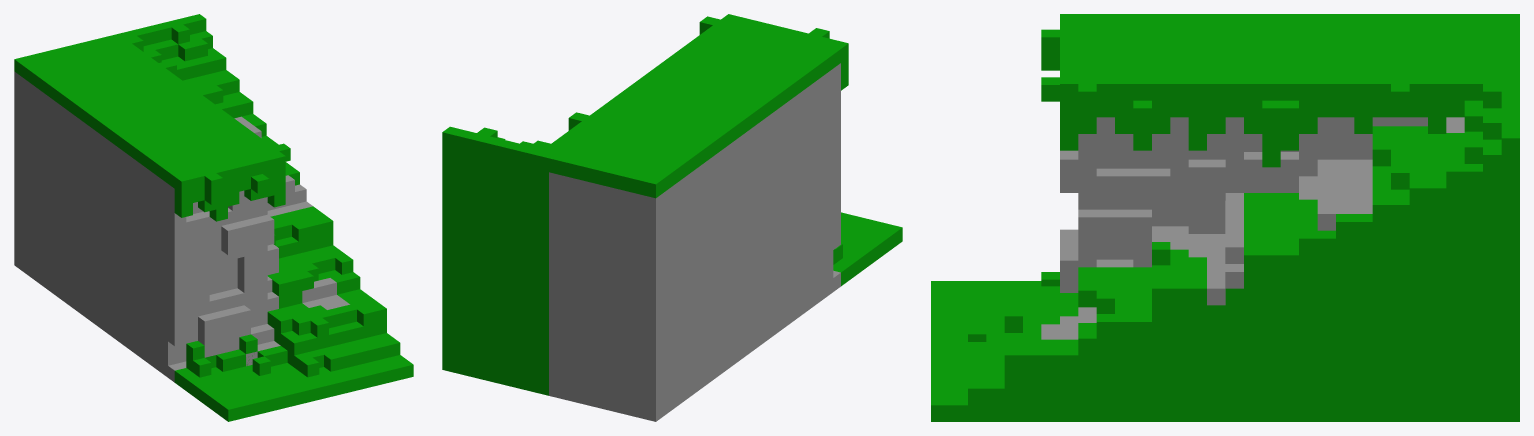
File: Corner9.fbx
The picture shows the model from 3 angles, left to right: view 1: azimuth 30°, elevation 25°; view 2: azimuth 150°, elevation 25°; view 3: azimuth 270°, elevation 25°; orthographic projection. The views are drawn at different scales.
Visible parts, largest first — view 1: Ground, Cliff; view 2: Cliff, Ground; view 3: Ground, Cliff.
Part boxes in pixels (x1=…): Ground: x1=14, y1=14, x2=413, y2=421; Cliff: x1=14, y1=71, x2=349, y2=382; Cliff: x1=549, y1=63, x2=840, y2=421; Ground: x1=442, y1=14, x2=902, y2=395; Ground: x1=931, y1=14, x2=1519, y2=421; Cliff: x1=1041, y1=117, x2=1464, y2=339.
Size of the model in its own units: 16 by 17 by 32.
Materials: 1 (1 with a texture image).
